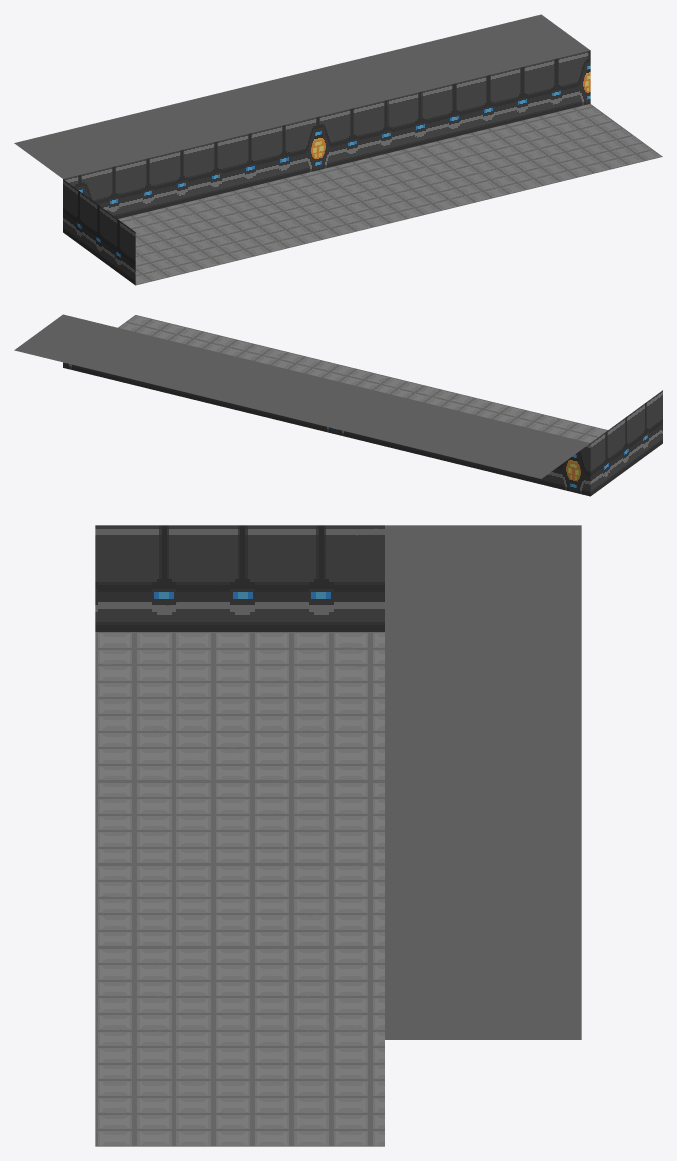
Rendered from GALHQ13-1.obj.
3 views of the same model, one above another, from view 1: azimuth 30°, elevation 25°; view 2: azimuth 150°, elevation 25°; view 3: azimuth 270°, elevation 25° (orthographic). The views are drawn at different scales.
Visible parts, largest first — view 1: m_dun2608_00_00c; view 2: m_dun2608_00_00c; view 3: m_dun2608_00_00c.
Part boxes in pixels (<box>): m_dun2608_00_00c: <box>14,14,662,285</box>; m_dun2608_00_00c: <box>14,314,662,496</box>; m_dun2608_00_00c: <box>95,525,581,1146</box>.
Size of the model in its own units: 496 by 48 by 198.
